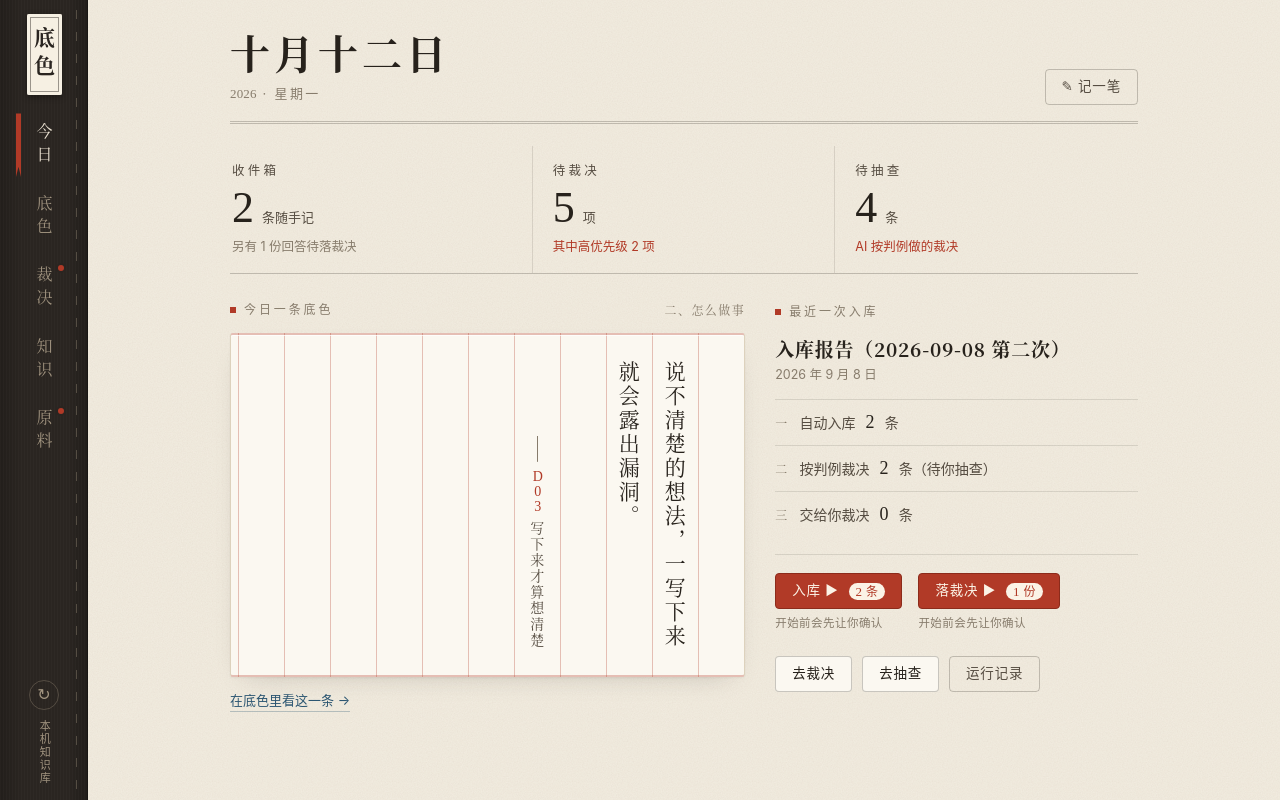
Scenario: the start sheet › starts only on 开始入库, then shows the run
Click the button "入库 ▶ 2 条" at (839, 591), box [775,573,902,609]
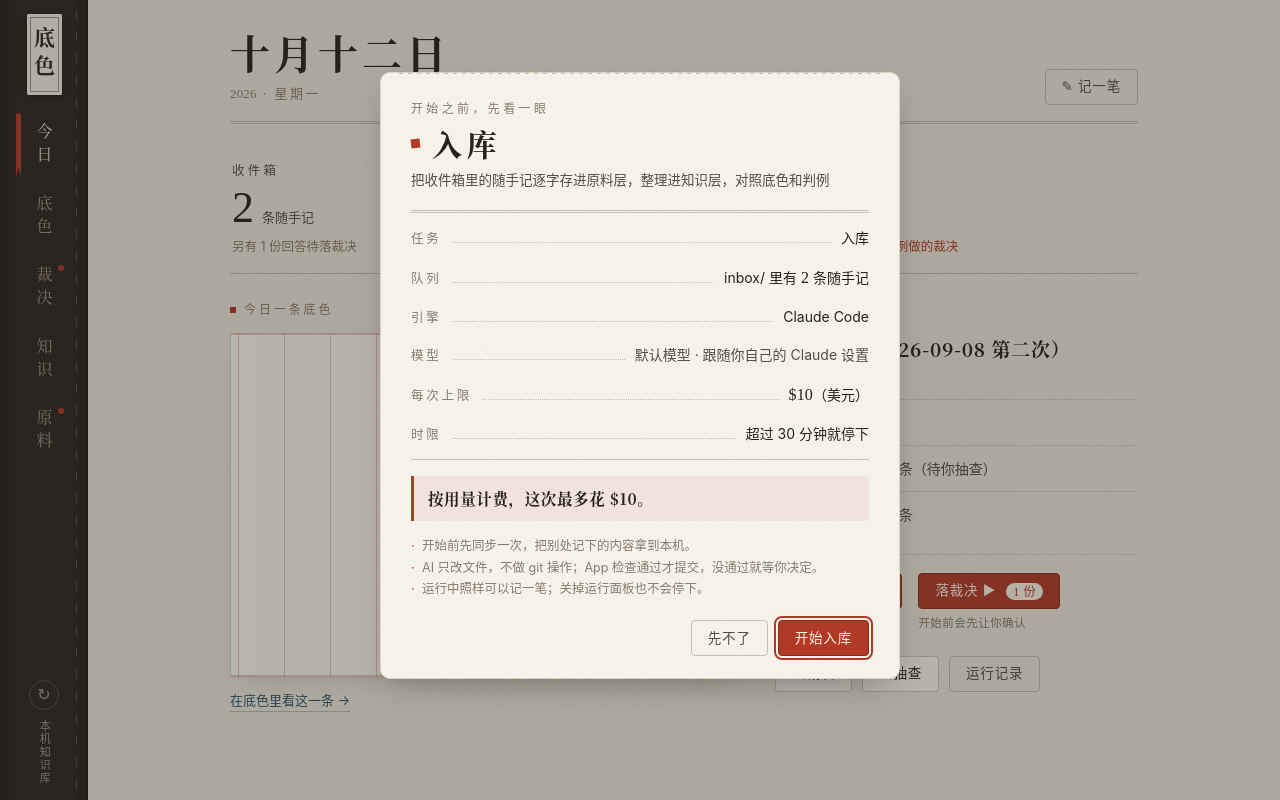
Click the button "开始入库" at (823, 638), box [778,620,869,656]
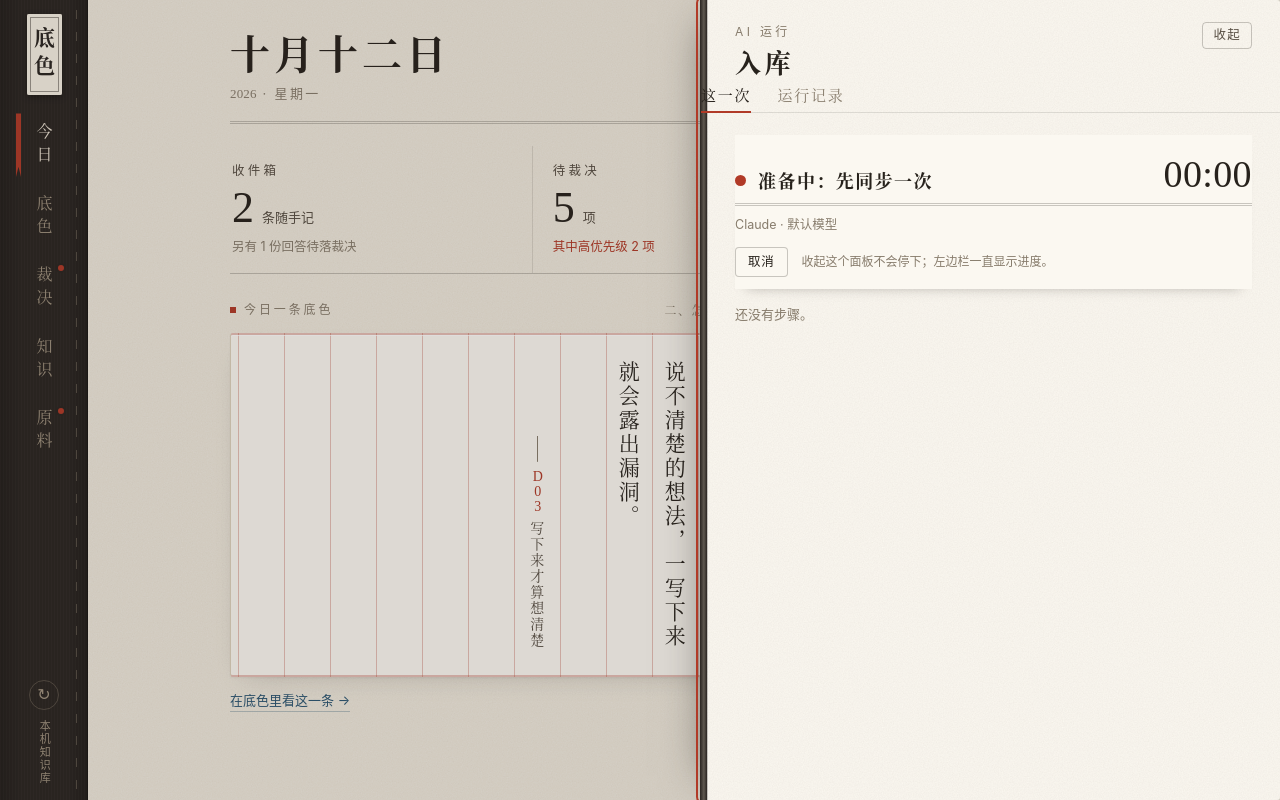
Expected: the dialog named "开始入库" is gone
